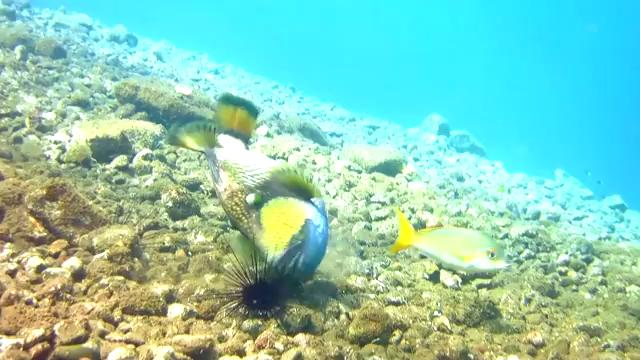urchin: (184, 230, 321, 342)
